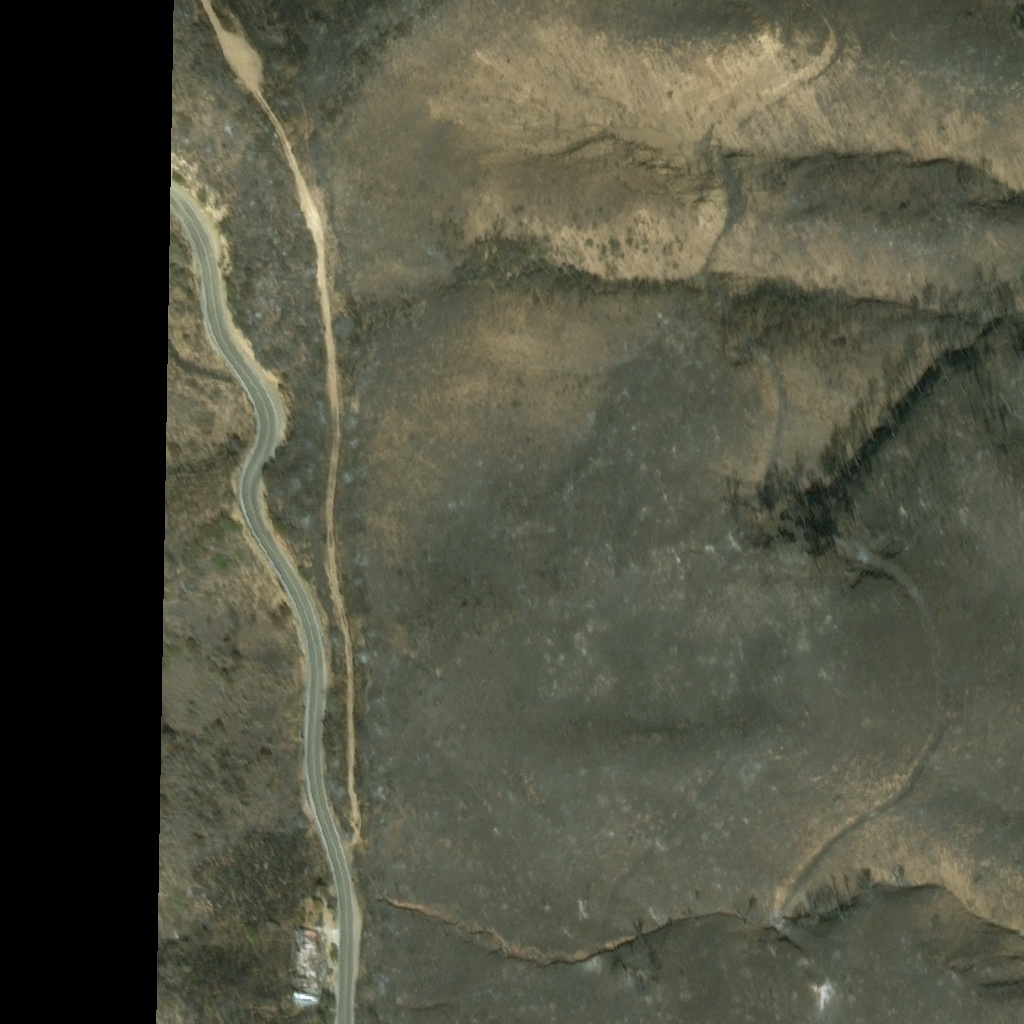3 destroyed: (291, 924, 321, 990)
